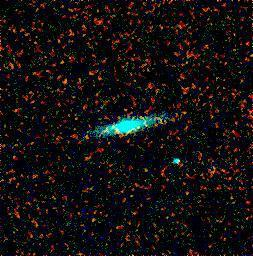star: (196, 34, 226, 64)
